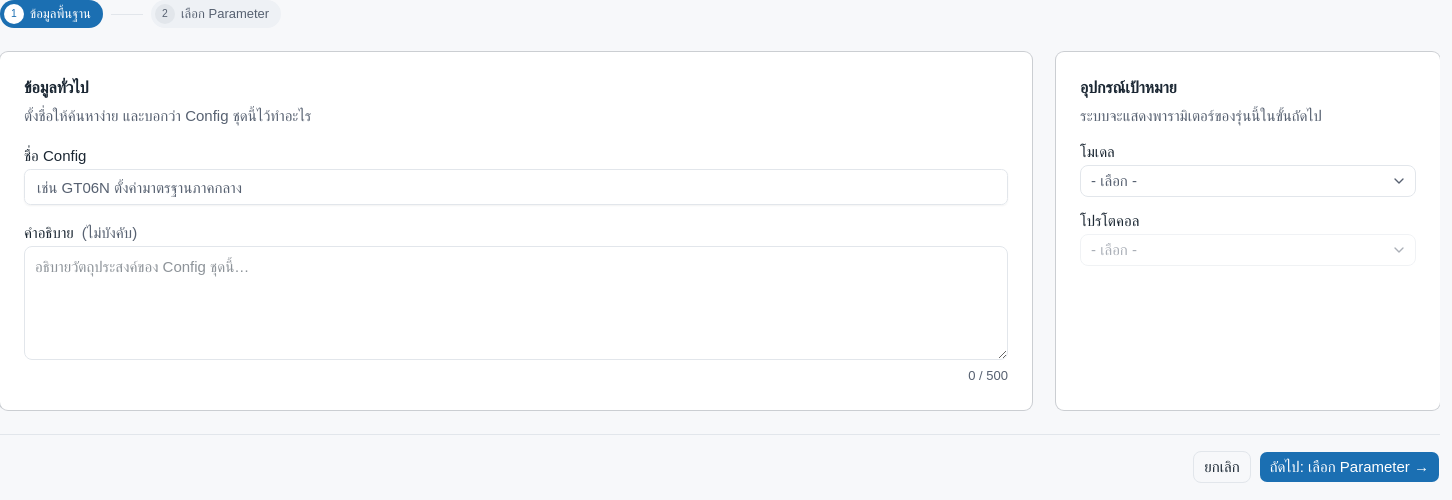
ConfigWizard: ล็อกโปรโตคอลตามทะเบียนโมเดล (รีวิวพี่เลี้ยง 19 ต.ค.) › โมเดลที่รองรับหลายโปรโตคอล: ไม่เลือกให้ ต้องเลือกเอง และเห็นเฉพาะที่ทะเบียนรองรับ
Click the dropdown named "โมเดล".
click(1114, 180)  # box left=1080, top=165, right=1416, bottom=197
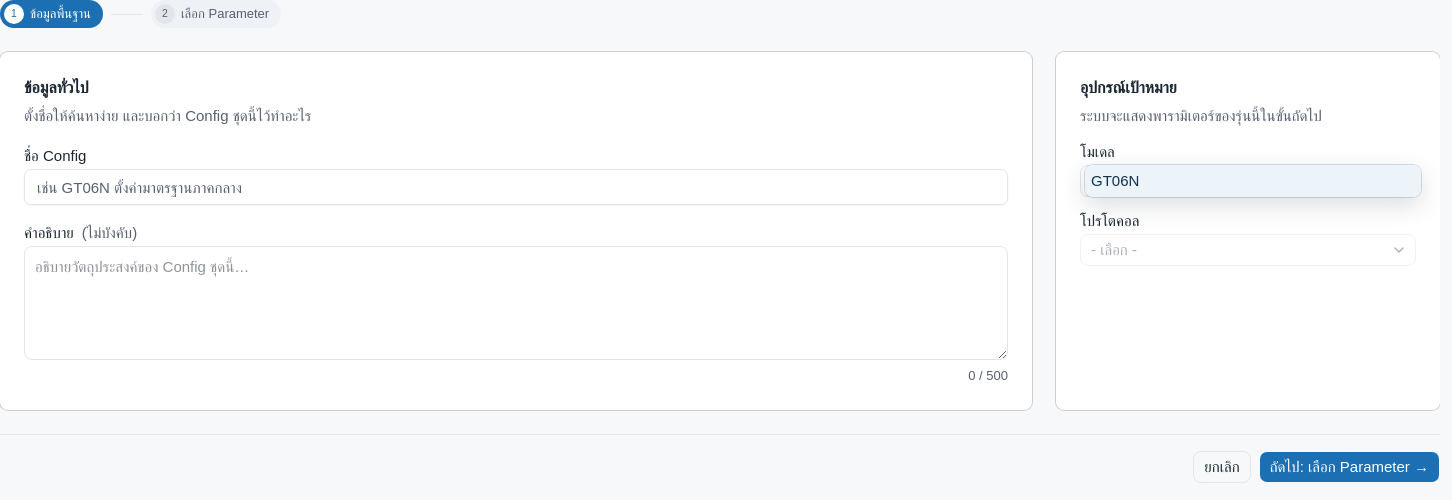
Click the option "GT06N".
click(1115, 180)  # box left=1085, top=165, right=1421, bottom=197
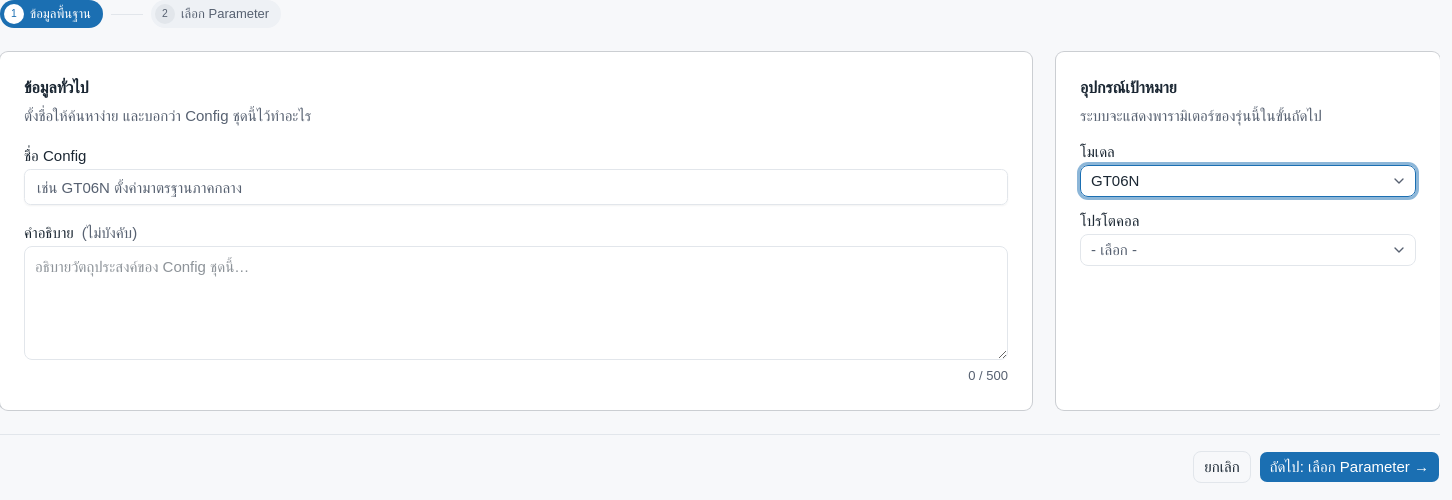
Click the dropdown named "โปรโตคอล".
click(1114, 250)  # box left=1080, top=234, right=1416, bottom=266
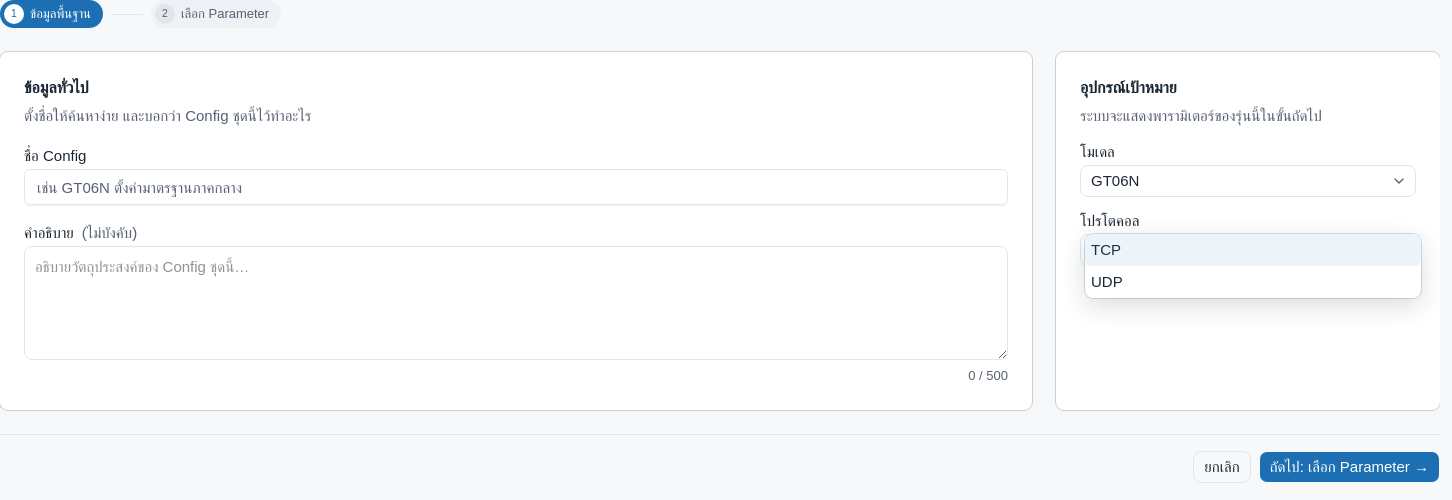
Expected: the option "TCP" is shown, left=1085, top=234, right=1421, bottom=266
Expected: the option "UDP" is shown, left=1091, top=273, right=1123, bottom=290
